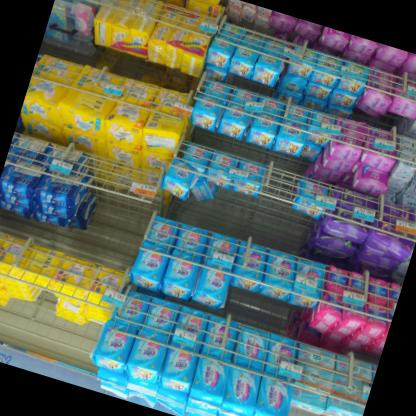empty_space: (79, 183, 151, 262), (249, 164, 297, 246)
